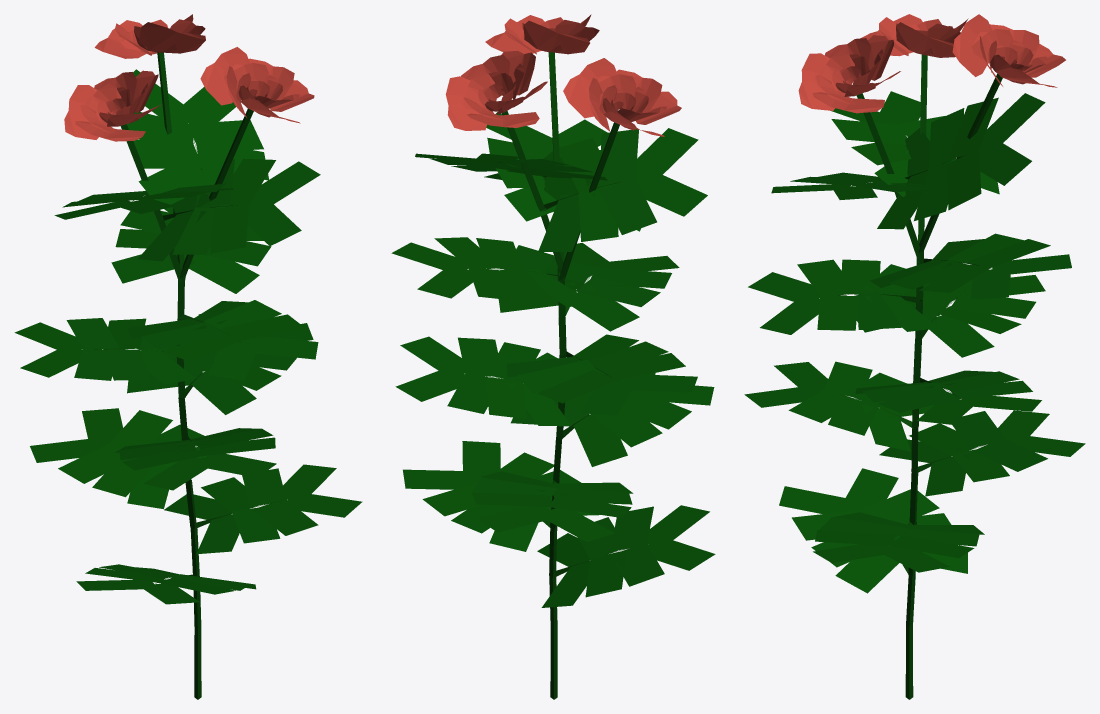
Rendered from flower1.fbx.
3 renders of one model, left to right at view 1: azimuth 30°, elevation 25°; view 2: azimuth 150°, elevation 25°; view 3: azimuth 270°, elevation 25°, orthographic. The views are drawn at different scales.
Visible parts, largest first — view 1: Rose01; view 2: Rose01; view 3: Rose01.
Part boxes in pixels (x1=…): Rose01: x1=14, y1=14, x2=362, y2=699; Rose01: x1=391, y1=14, x2=715, y2=699; Rose01: x1=744, y1=14, x2=1085, y2=699.
Bounding box in the file's own units: 81.84 × 171 × 78.27.
